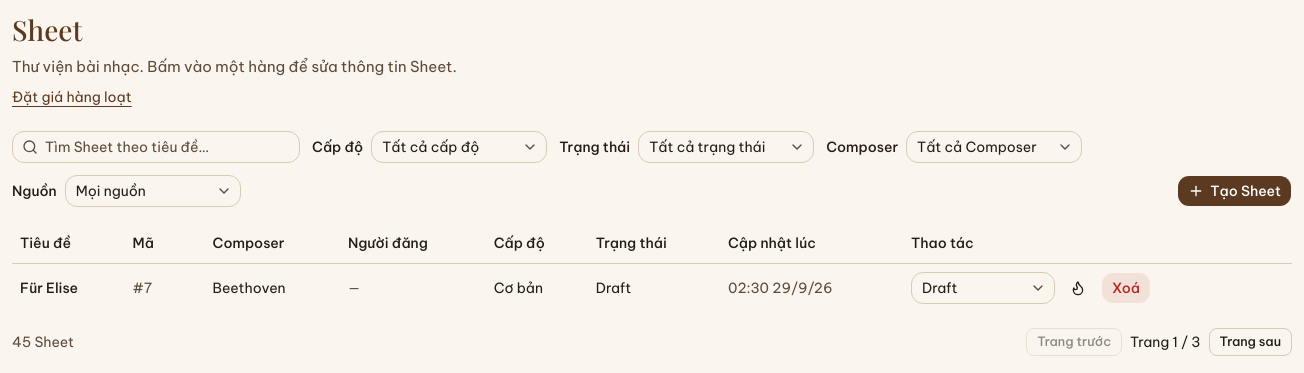
Trang /sheets — phân trang › "Trang sau" gọi page=2; gõ từ khoá -> quay về page=1
Expected: the text "Trang 1 / 3" is shown, [1130, 332, 1200, 352]
Click the button "Trang sau" at (1250, 342), box [1208, 328, 1292, 356]
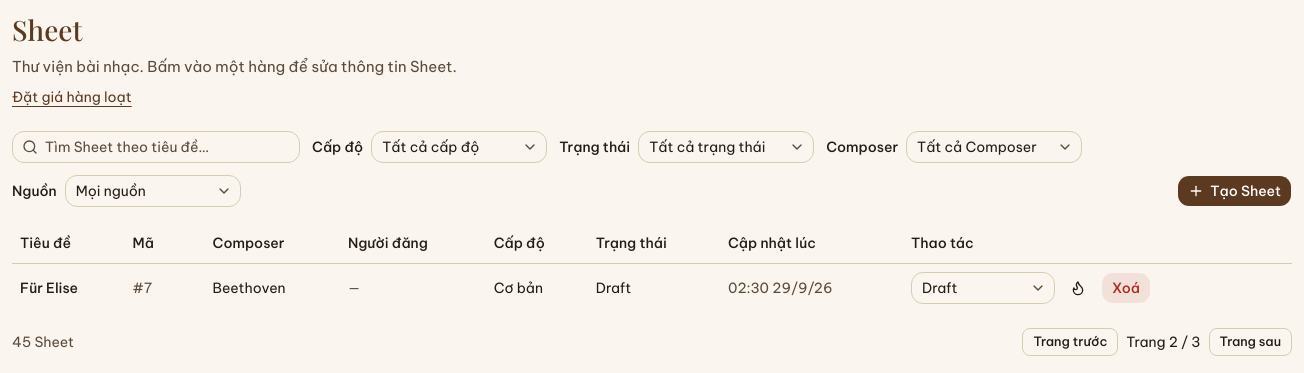
Now the text "Trang 2 / 3" is shown, box [1126, 332, 1200, 352]
Type "elise" into the search field labelled "Tìm Sheet theo tiêu đề" at (156, 147), box [12, 131, 300, 163]
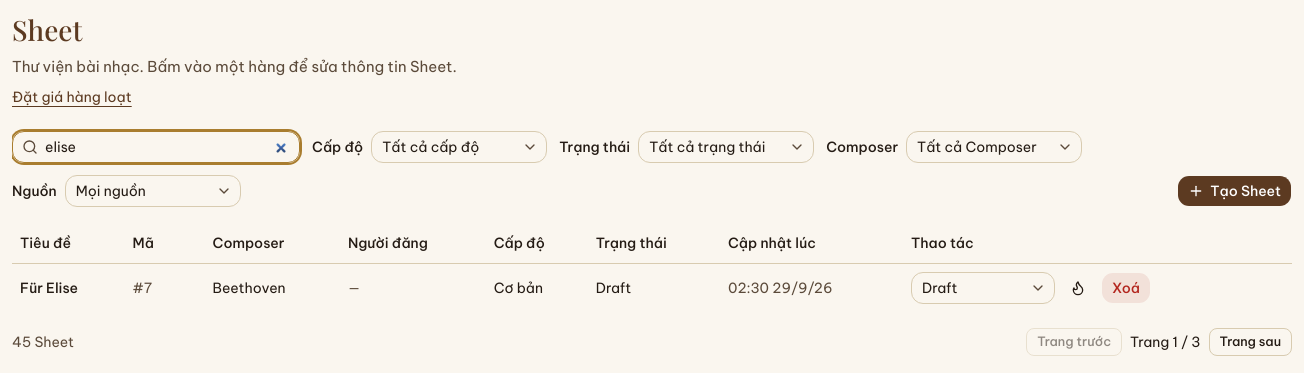
Now the text "Trang 1 / 3" is shown, box [1130, 332, 1200, 352]
